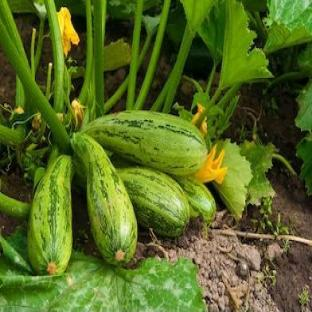Zucchini: (72, 134, 137, 265), (83, 111, 206, 176), (28, 155, 74, 274), (118, 167, 189, 236), (176, 178, 216, 225)
